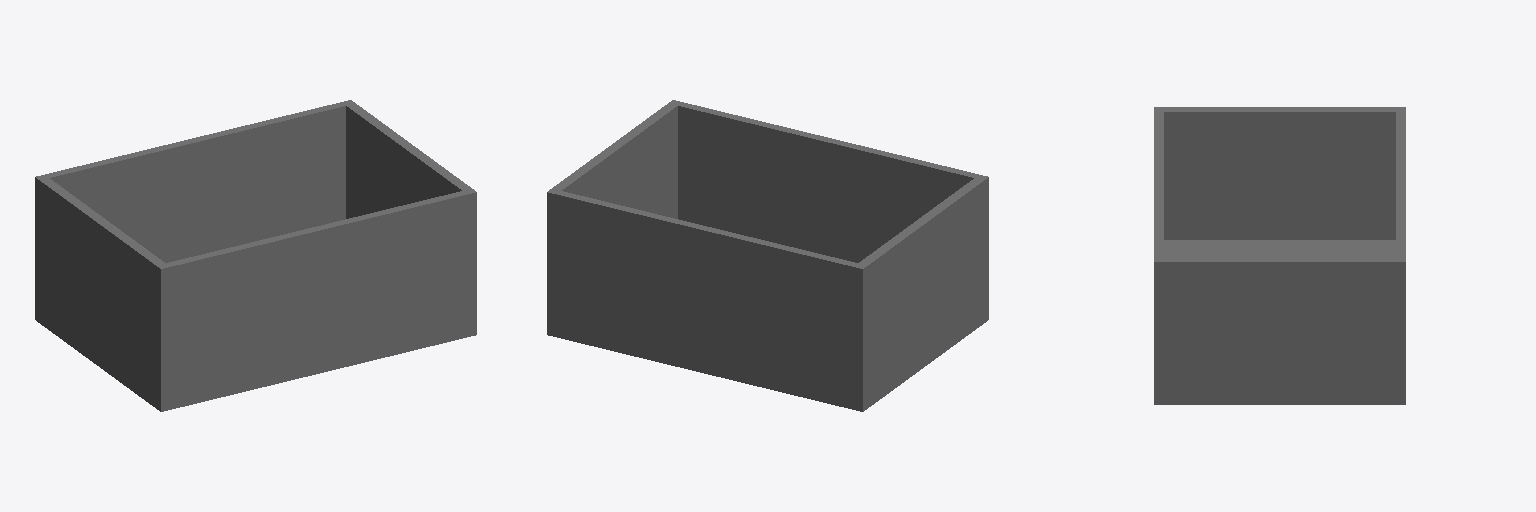
The model's file is container1.obj.
3 renders of one model, left to right at view 1: azimuth 30°, elevation 25°; view 2: azimuth 150°, elevation 25°; view 3: azimuth 270°, elevation 25°, orthographic.
Visible parts, largest first — view 1: container:pCube1; view 2: container:pCube1; view 3: container:pCube1.
Part boxes in pixels (x1,y1,x2,y2): container:pCube1: (35, 100, 476, 411); container:pCube1: (547, 100, 988, 411); container:pCube1: (1154, 107, 1405, 404).
Bounding box in the file's own units: 30 × 12.96 × 20.74.